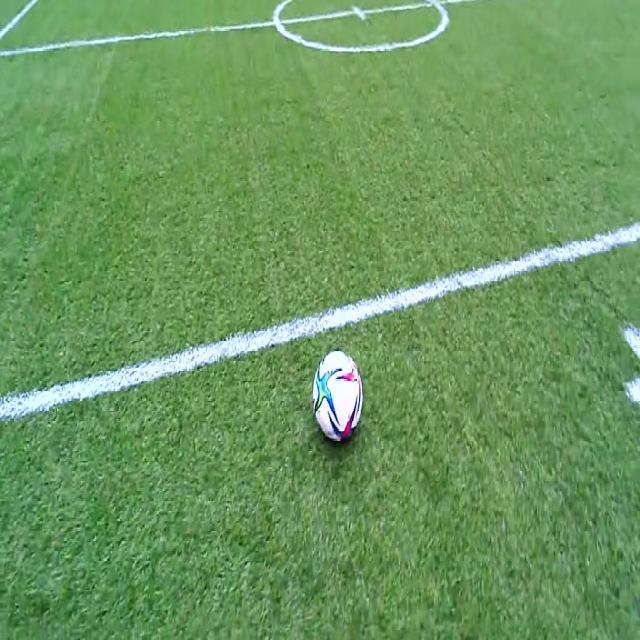ball: (314, 352, 364, 441)
